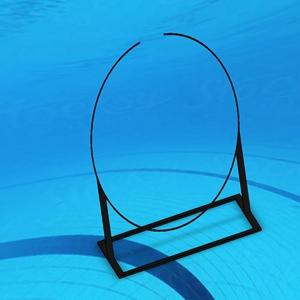circle: (90, 31, 263, 279)
